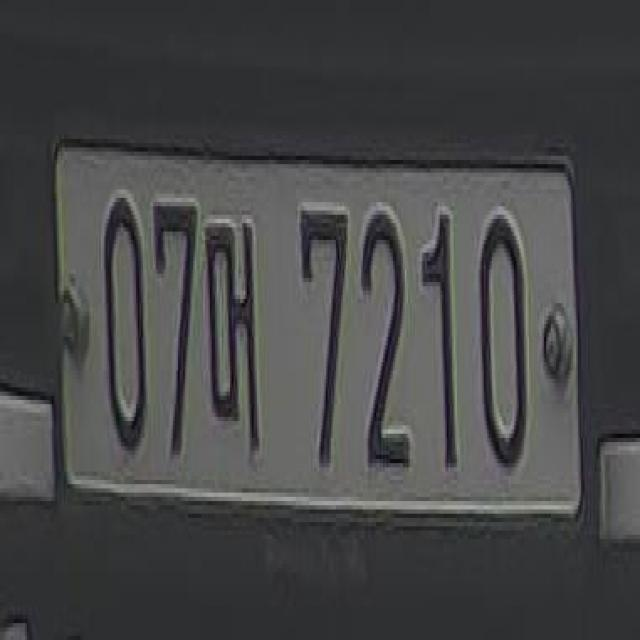illegal_plate: (59, 132, 580, 542)
